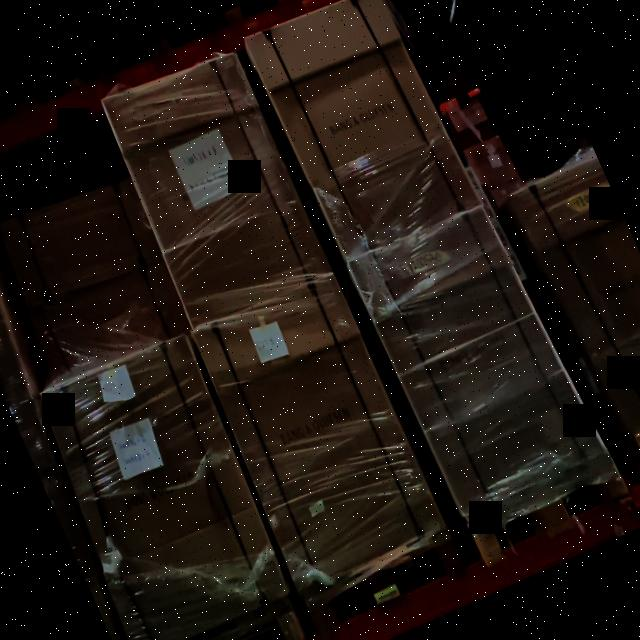box: (348, 206, 609, 515), (192, 275, 448, 590), (41, 335, 289, 640), (102, 54, 332, 324), (244, 0, 480, 260)
